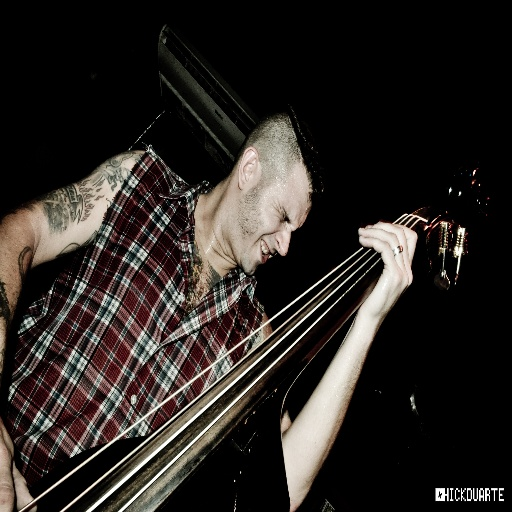hand: (355, 219, 419, 325), (0, 416, 37, 511)
